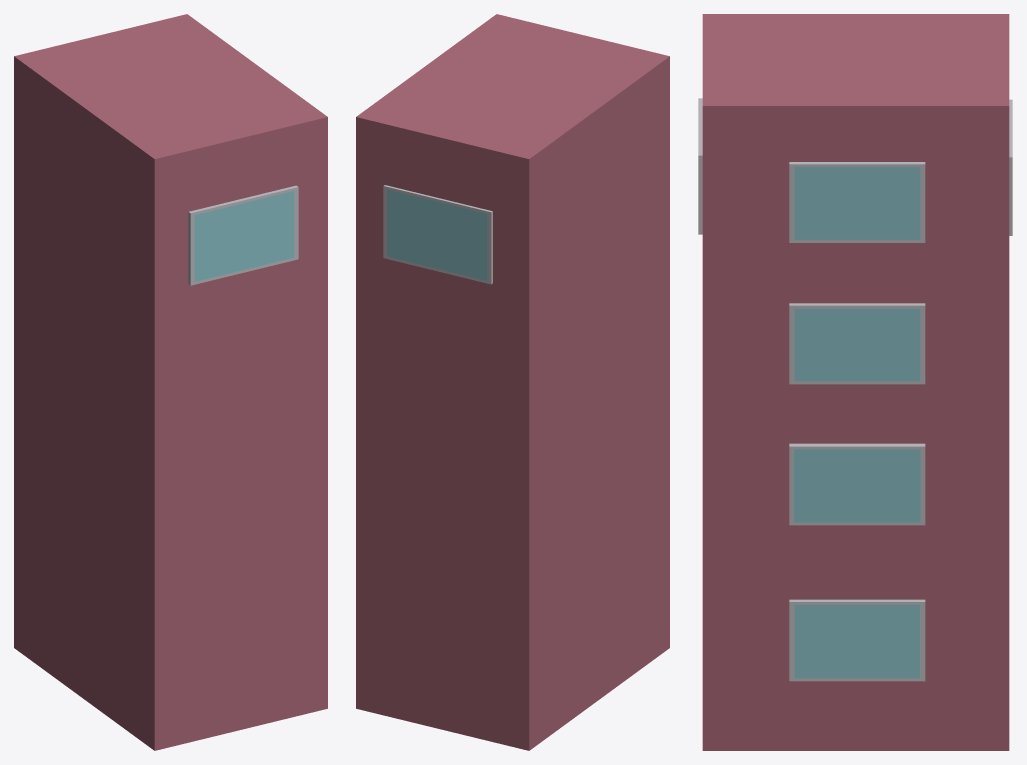
Rendered from Tall_house_new.fbx.
3 renders of one model, left to right at view 1: azimuth 30°, elevation 25°; view 2: azimuth 150°, elevation 25°; view 3: azimuth 270°, elevation 25°, orthographic. The views are drawn at different scales.
Visible parts, largest first — view 1: Cube, Plane.004; view 2: Cube, Plane.005; view 3: Cube, Plane.002, Plane.003, Plane.001, Plane.000, Plane.004, Plane.005.
Part boxes in pixels (x1,y1,x2,y2): Cube: (14,14,327,750); Plane.004: (188,185,298,285); Cube: (356,14,669,750); Plane.005: (383,185,492,284); Cube: (702,14,1009,750); Plane.002: (789,443,925,525); Plane.003: (789,599,925,681); Plane.001: (789,303,925,384); Plane.000: (789,162,925,242); Plane.004: (698,98,702,234); Plane.005: (1009,99,1012,235).
Bounding box in the file's own units: 105 × 329 × 145.
